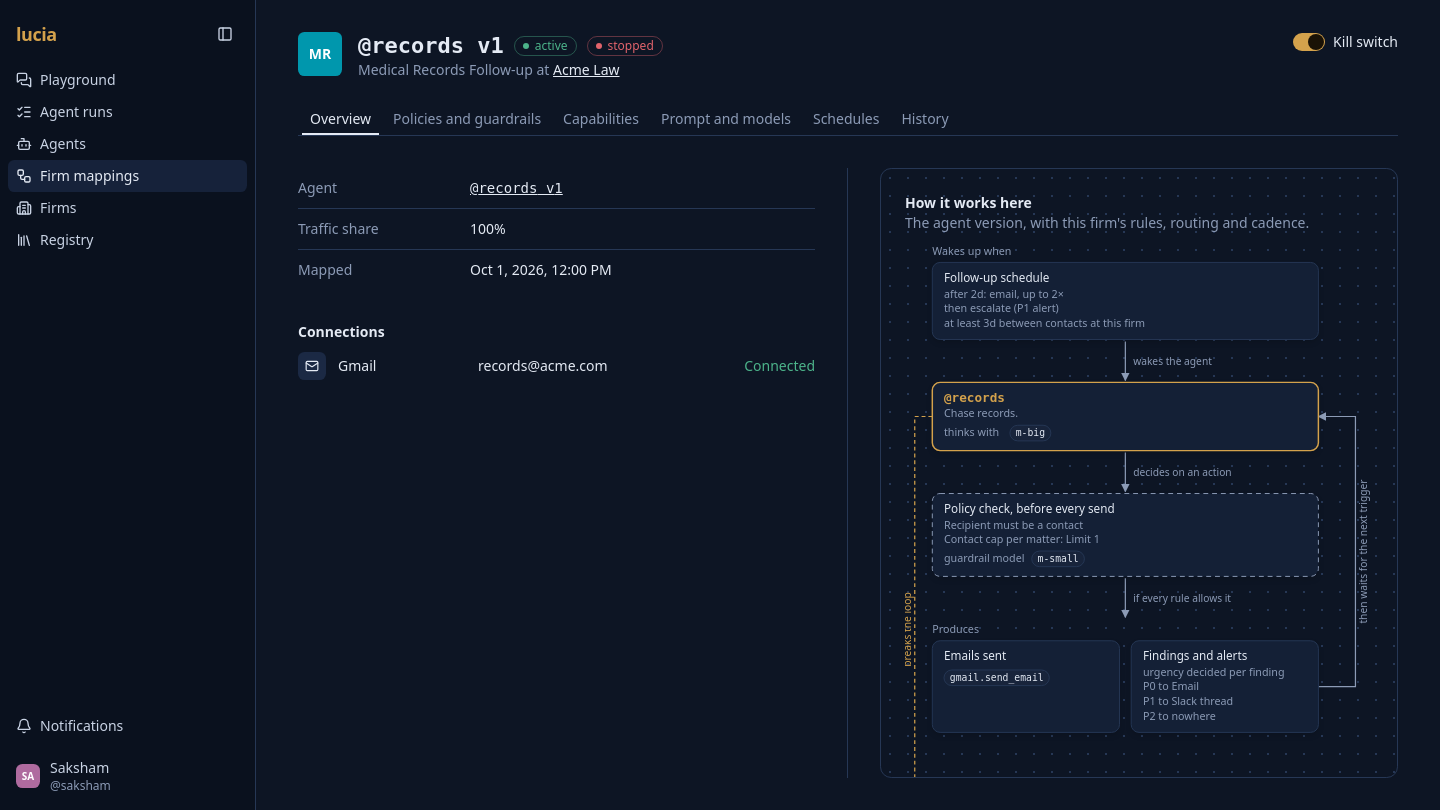
Test case: mapping detail › the kill switch asks first, saves, and closes the dialog
Click the switch named "Kill switch" at point(1309, 42), box 1293,33 -> 1325,51
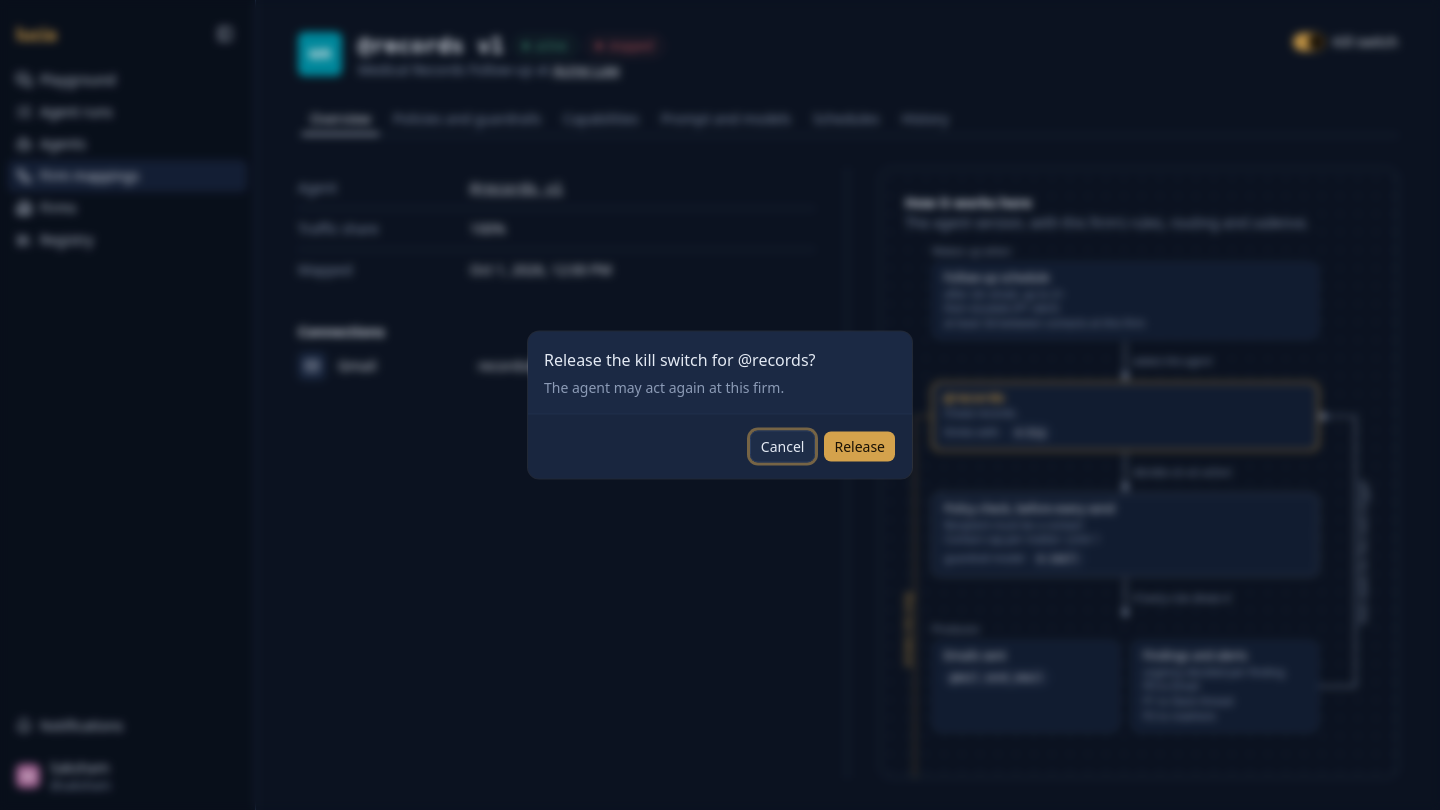
Click the button "Release" at point(860, 446), box 823,430 -> 896,462
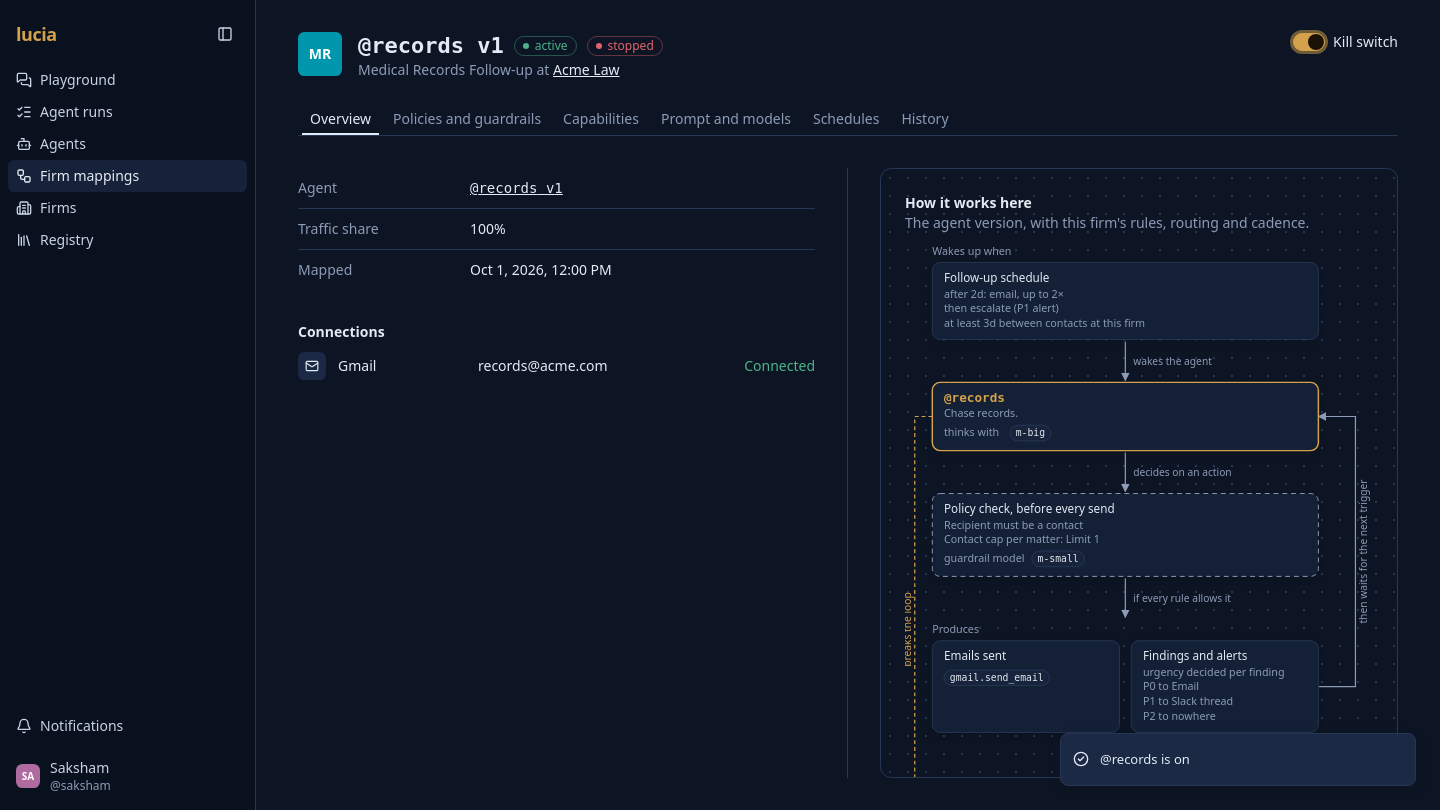
Expected: the dialog is gone
Expected: the text "@records is on" is shown, 1100,750 -> 1190,769
